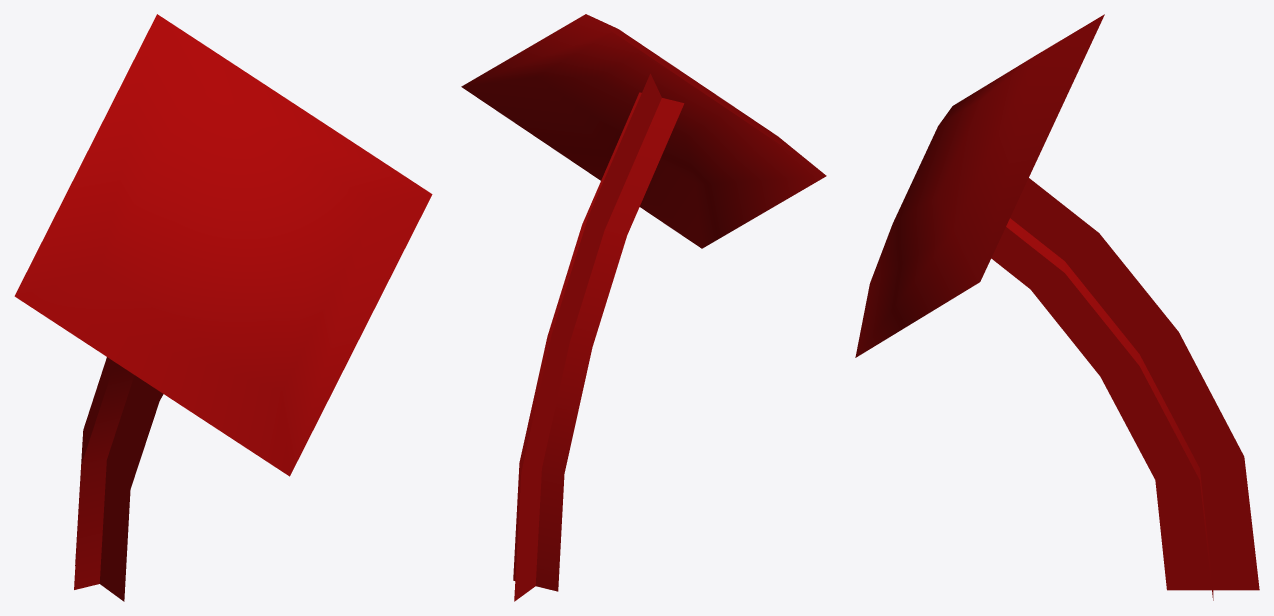
The model's file is flower1_pickup 1.fbx.
The picture shows the model from 3 angles, left to right: view 1: azimuth 30°, elevation 25°; view 2: azimuth 150°, elevation 25°; view 3: azimuth 270°, elevation 25°; orthographic projection. The views are drawn at different scales.
Visible parts, largest first — view 1: pPlane4; view 2: pPlane4; view 3: pPlane4.
Part boxes in pixels (<box>): pPlane4: <box>14,14,432,601</box>; pPlane4: <box>461,14,826,601</box>; pPlane4: <box>855,14,1259,600</box>.
Bounding box in the file's own units: 0.3233 × 0.4523 × 0.2876.
